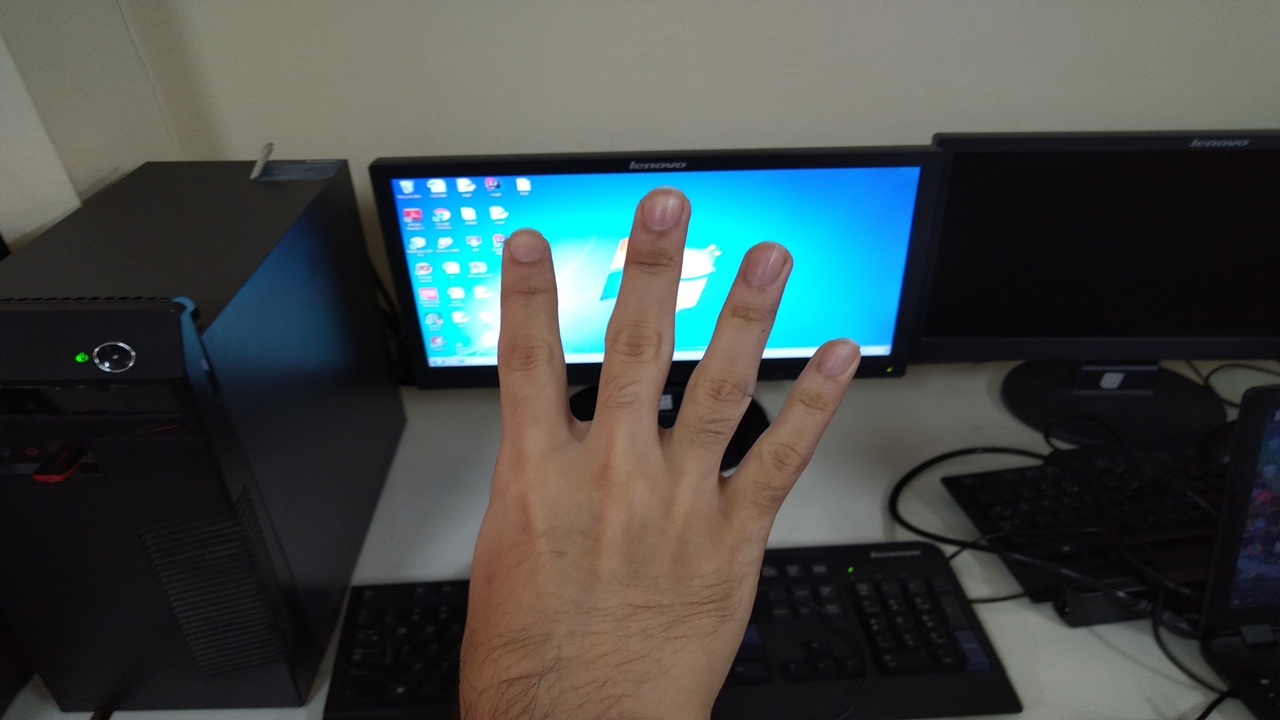fingertip: (628, 180, 698, 244), (732, 238, 798, 294), (804, 334, 868, 388), (498, 228, 558, 280)
